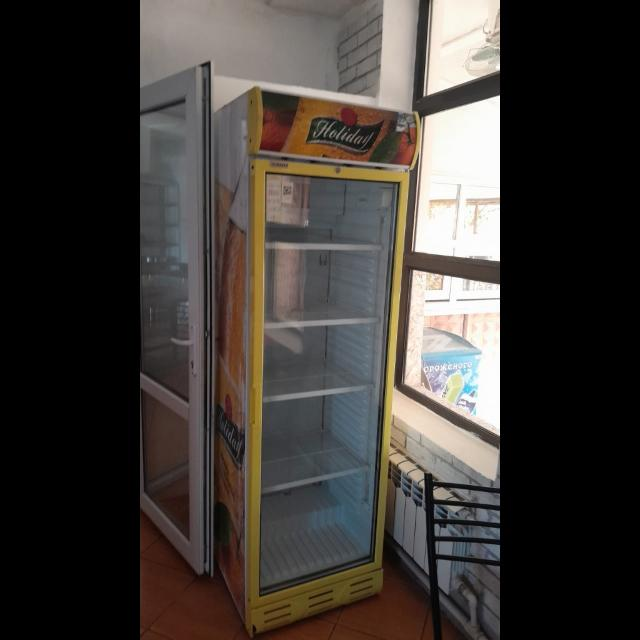Cooling-Display: (245, 85, 420, 637)
